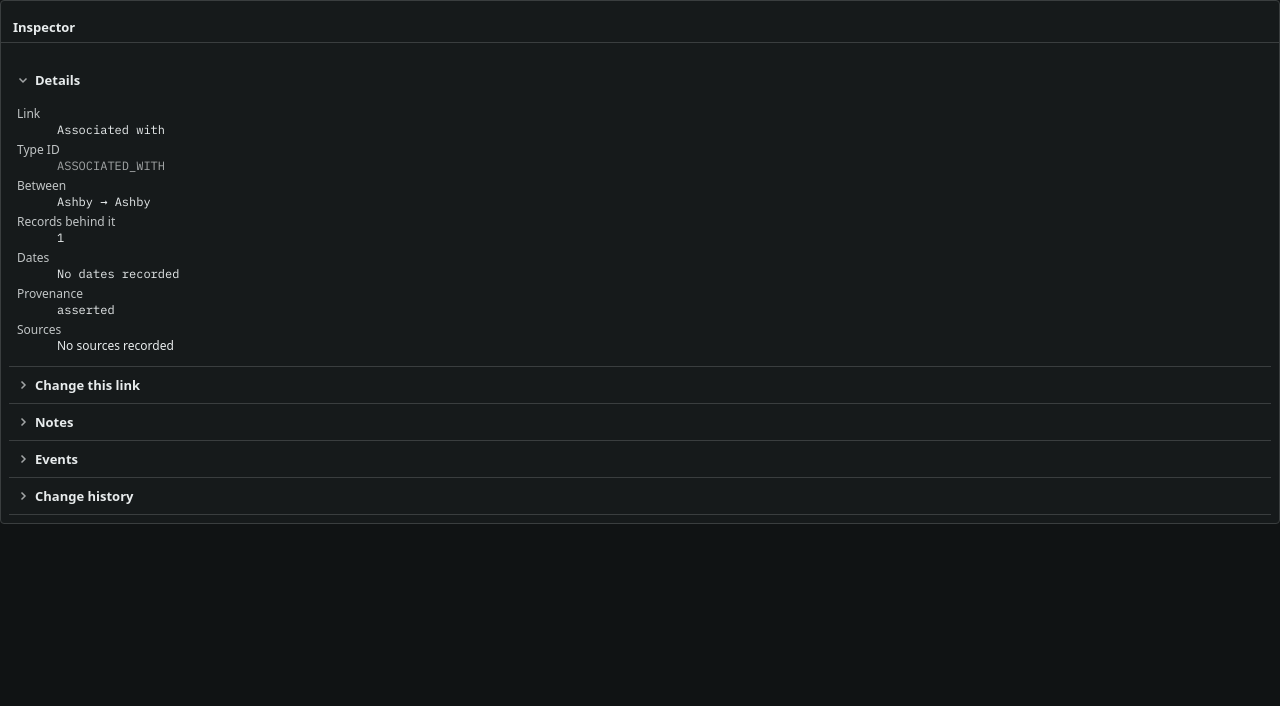
Test: Inspector sections (ADR-096) › opening Change this link opens the form itself
What coordinates should you click on to do the following:
click the button "Change this link"
I would click on:
 (88, 385)
Its box is [9,367,1271,403].
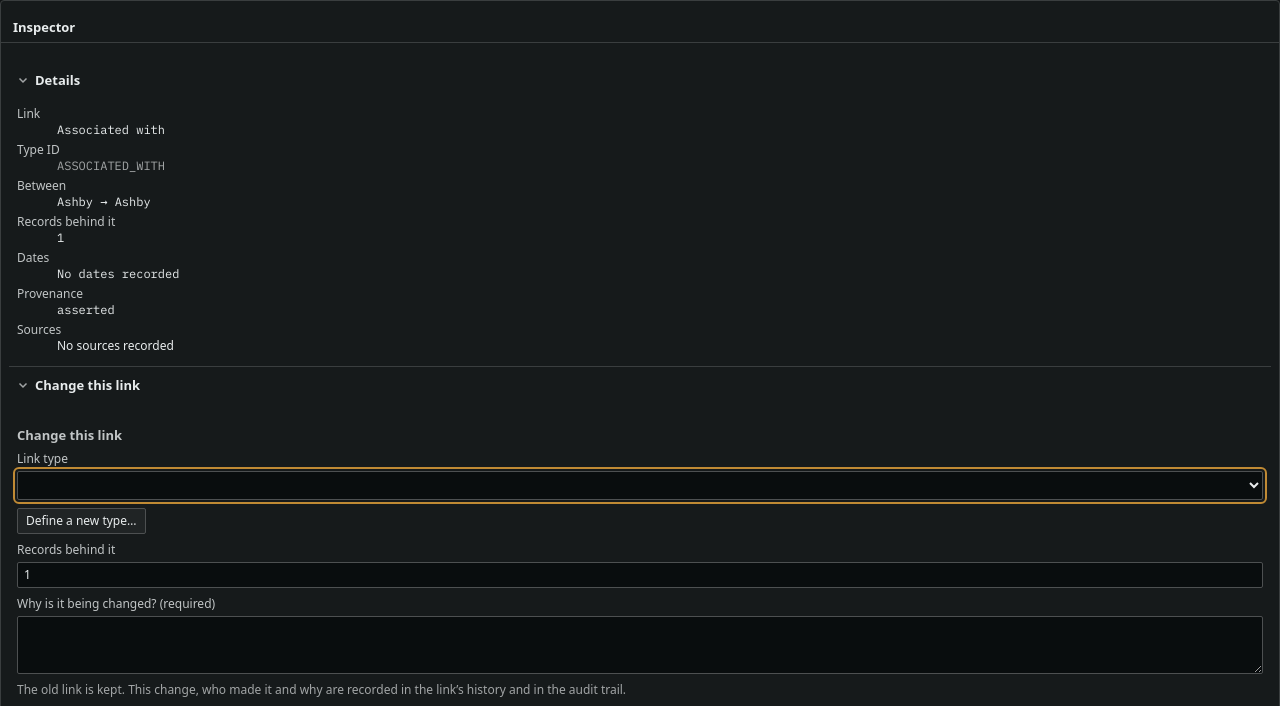
Expected: the dropdown labelled "Link type" is shown, [17,471,1263,500]
